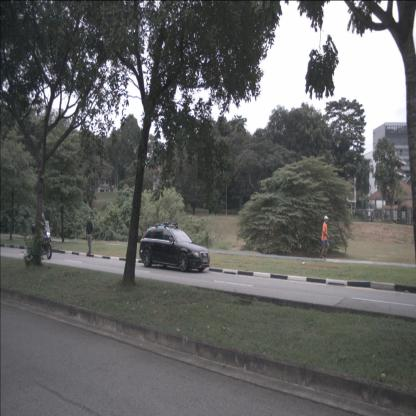human-pedestrian-adult: (319, 216, 329, 262), (86, 216, 93, 255)
vehicle-car: (139, 226, 210, 272)
vehicle-motorcycle: (32, 213, 52, 259)
